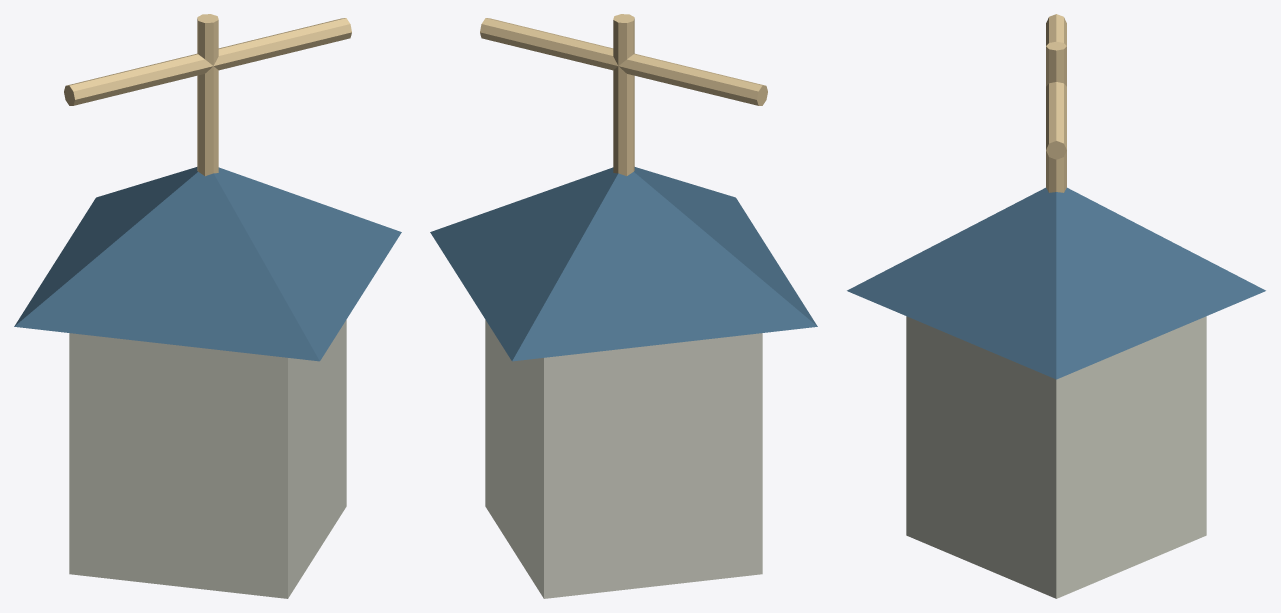
Rendered from architecture.glb.
3 renders of one model, left to right at view 1: azimuth 30°, elevation 25°; view 2: azimuth 150°, elevation 25°; view 3: azimuth 270°, elevation 25°, orthographic. The views are drawn at different scales.
Visible parts, largest first — view 1: humans roof silhouette; view 2: humans roof silhouette; view 3: humans roof silhouette.
Boxes of the visible parts, <box> form: humans roof silhouette: <box>14,14,401,598</box>; humans roof silhouette: <box>430,14,817,598</box>; humans roof silhouette: <box>847,14,1265,598</box>.
Size of the model in its own units: 1.4 by 1.8 by 1.4.
